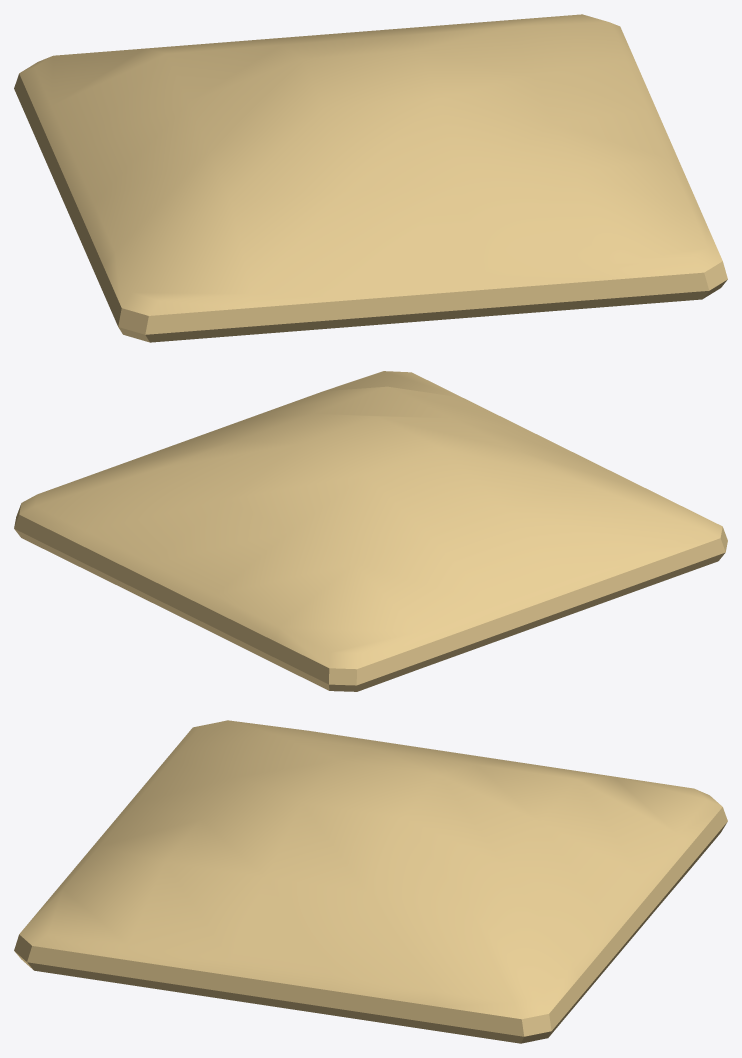
File: pillow.fbx
3 renders of one model, top to bottom at view 1: azimuth 30°, elevation 25°; view 2: azimuth 150°, elevation 25°; view 3: azimuth 270°, elevation 25°, orthographic. The views are drawn at different scales.
Parts seen in each view (by area): view 1: pillow; view 2: pillow; view 3: pillow.
Boxes of the visible parts, x1,y1,x2,y2 form: pillow: (14, 14, 727, 342); pillow: (14, 371, 727, 691); pillow: (14, 720, 727, 1043).
Bounding box in the file's own units: 175 × 28.79 × 175.
